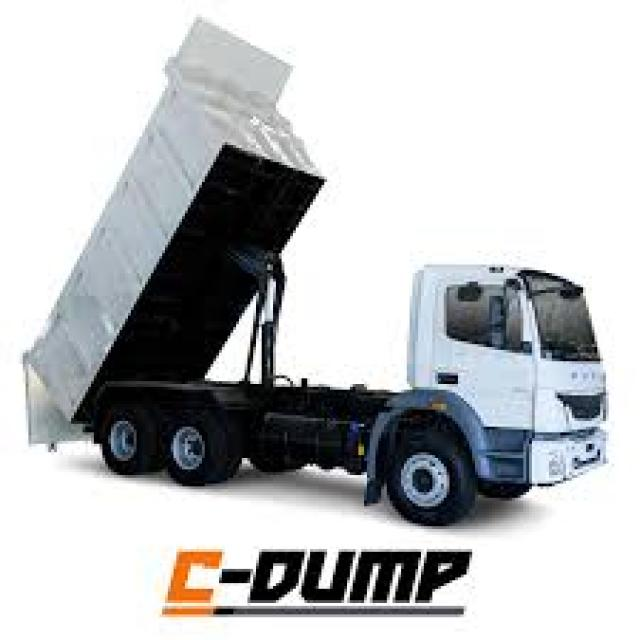dump_truck: (18, 12, 609, 528)
